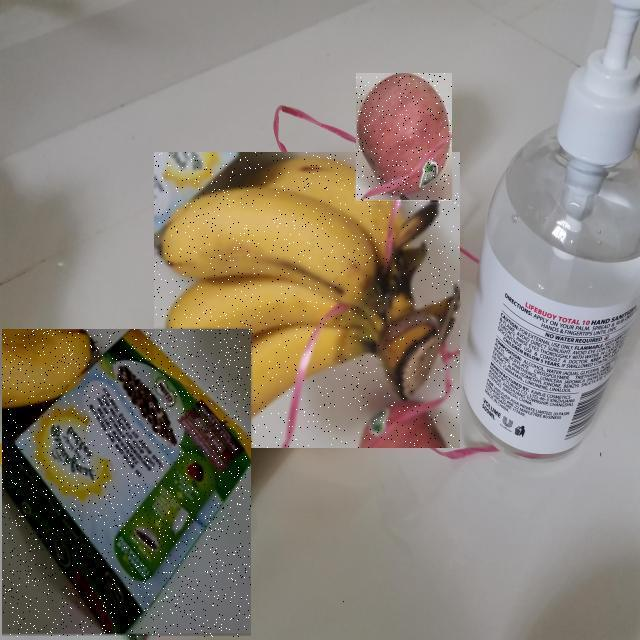apple: (130, 102, 582, 306)
banana: (0, 224, 384, 640)
